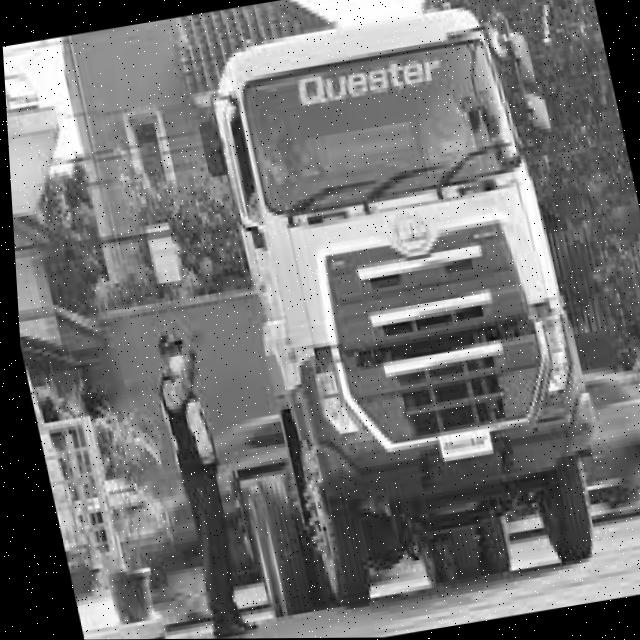truck: (180, 1, 625, 538)
